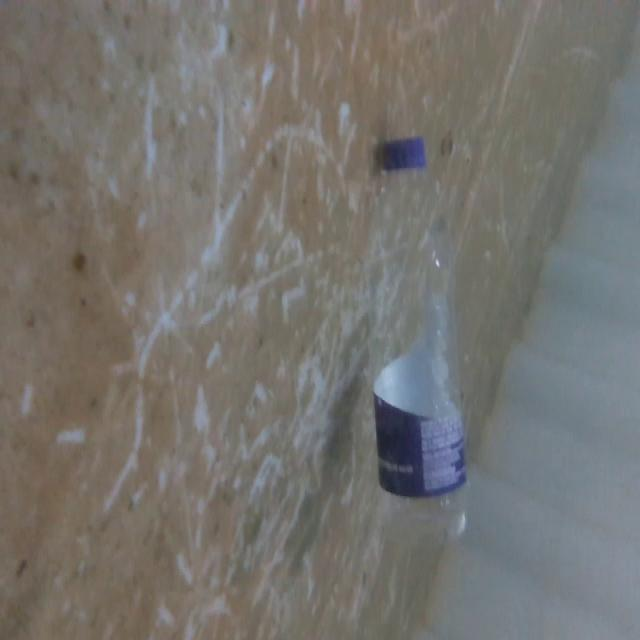plastic bottle: (361, 130, 485, 548)
